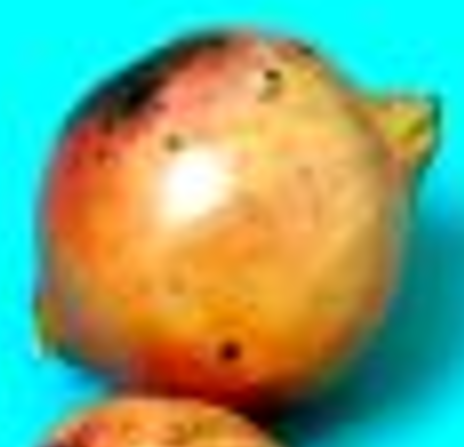pomegranate_C: (36, 31, 444, 411)
